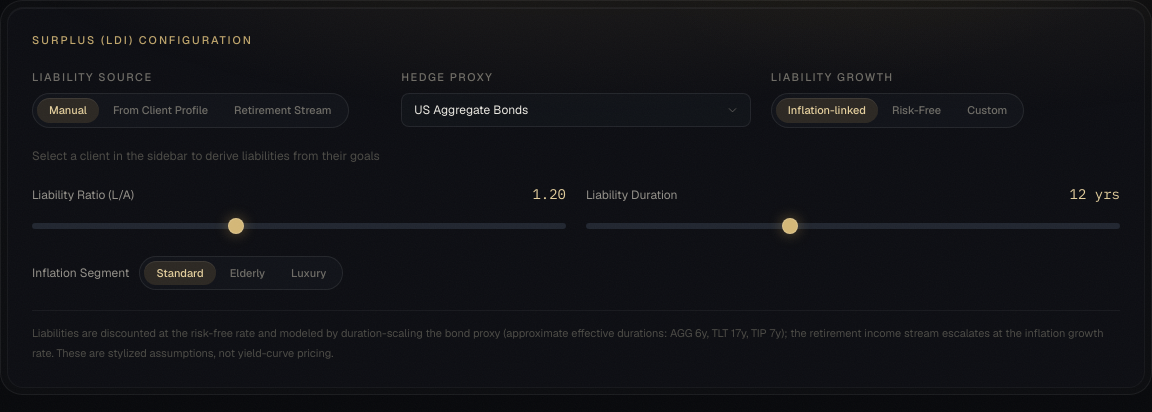
Test: SurplusConfigPanel › shows the custom growth input when growth_source is custom
Step 1. Click the button "Custom" → coordinates (987, 110), box [955, 98, 1019, 122]
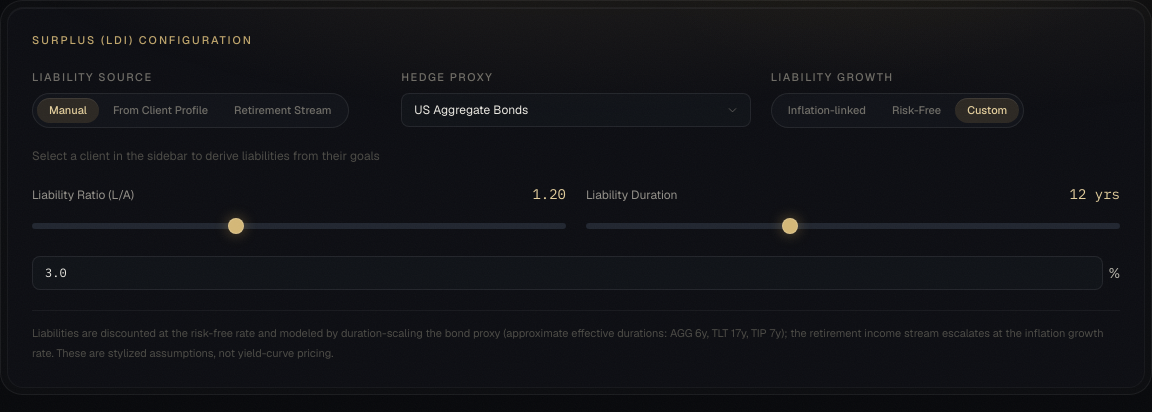
Now the number field named "Custom liability growth (%)" is shown, box [32, 256, 1103, 290]
